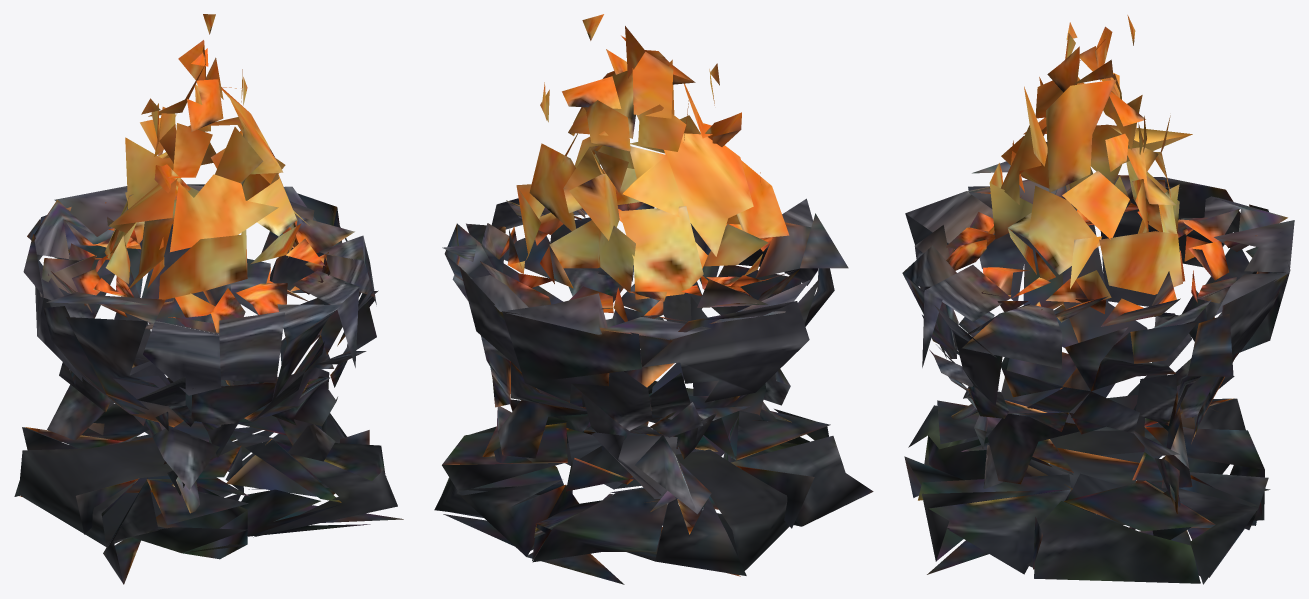
Rendered from k-brasero-semis.glb.
3 views of the same model, side by side, from view 1: azimuth 30°, elevation 25°; view 2: azimuth 150°, elevation 25°; view 3: azimuth 270°, elevation 25° (orthographic). The views are drawn at different scales.
Visible parts, largest first — view 1: k-brasero-semis; view 2: k-brasero-semis; view 3: k-brasero-semis.
Boxes of the visible parts, x1,y1,x2,y2 form: k-brasero-semis: [14, 14, 403, 584]; k-brasero-semis: [434, 14, 873, 584]; k-brasero-semis: [902, 15, 1294, 584].
Size of the model in its own units: 0.6722 by 0.9219 by 0.6386.
1 material, 1 textured.
